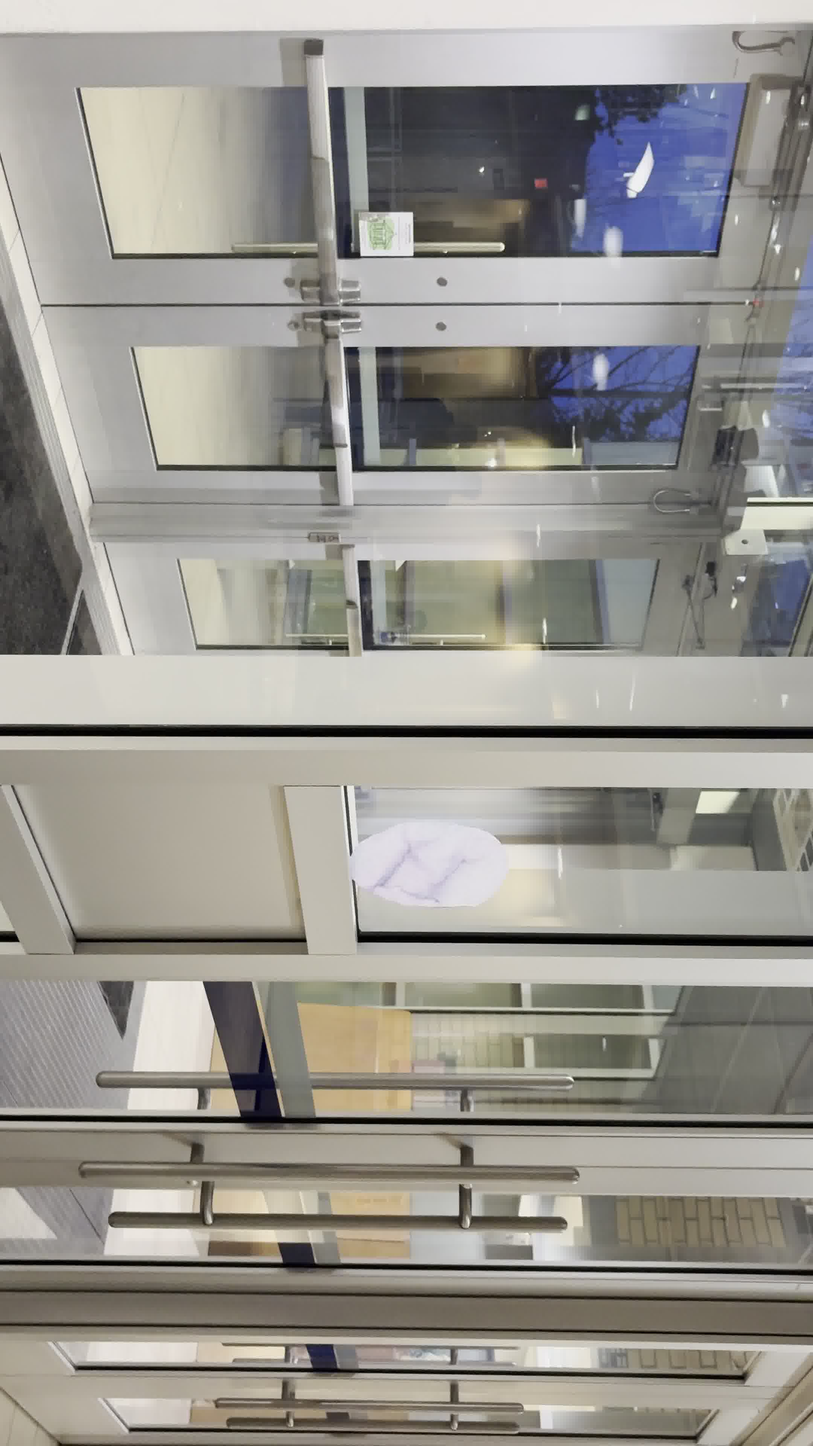Target: (340, 801, 513, 914)
